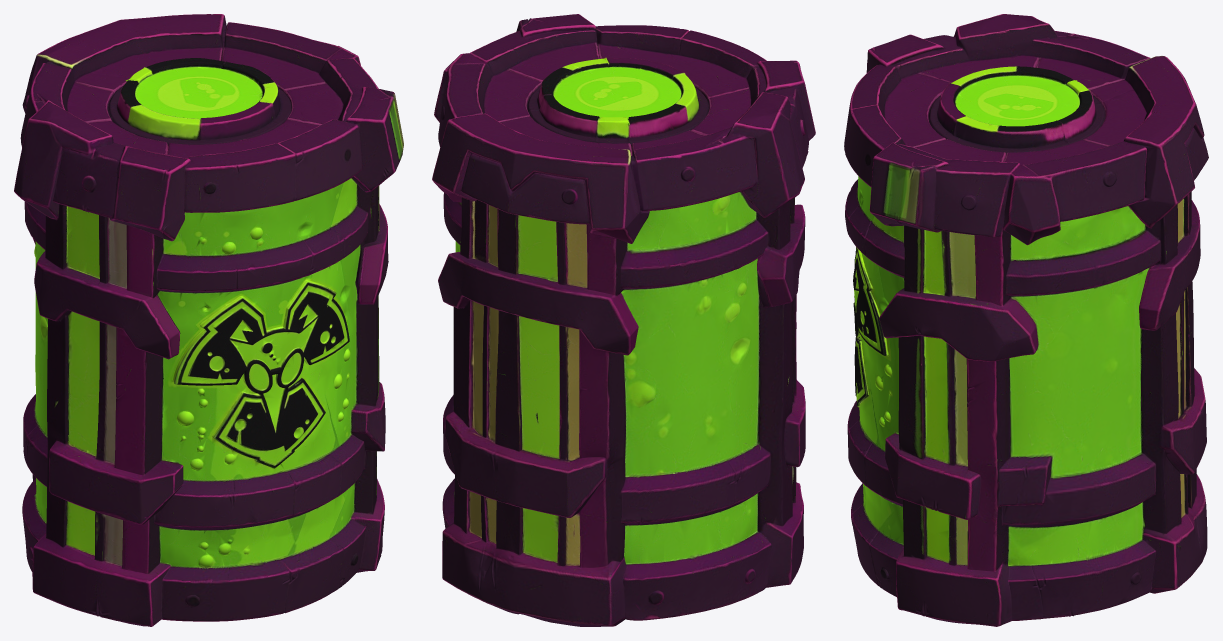
Rendered from Toxic_barrel_1.glb.
3 renders of one model, left to right at view 1: azimuth 30°, elevation 25°; view 2: azimuth 150°, elevation 25°; view 3: azimuth 270°, elevation 25°, orthographic. The views are drawn at different scales.
Parts seen in each view (by area): view 1: Toxic_Barrel; view 2: Toxic_Barrel; view 3: Toxic_Barrel.
Boxes of the visible parts, x1,y1,x2,y2 form: Toxic_Barrel: (14, 14, 403, 626); Toxic_Barrel: (432, 14, 815, 626); Toxic_Barrel: (844, 14, 1208, 626).
Size of the model in its own units: 1.45 by 1.9 by 1.32.
3 materials, 2 textured.
